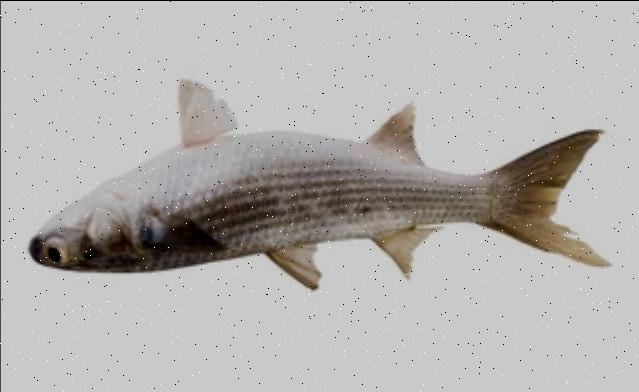Sirip Anal: (364, 98, 428, 174)
Sirip Dada: (148, 200, 229, 268)
Sirip Ekor: (498, 113, 624, 282)
Sirip Perut: (168, 65, 234, 150)
Sirip Punggung: (266, 226, 438, 294)
